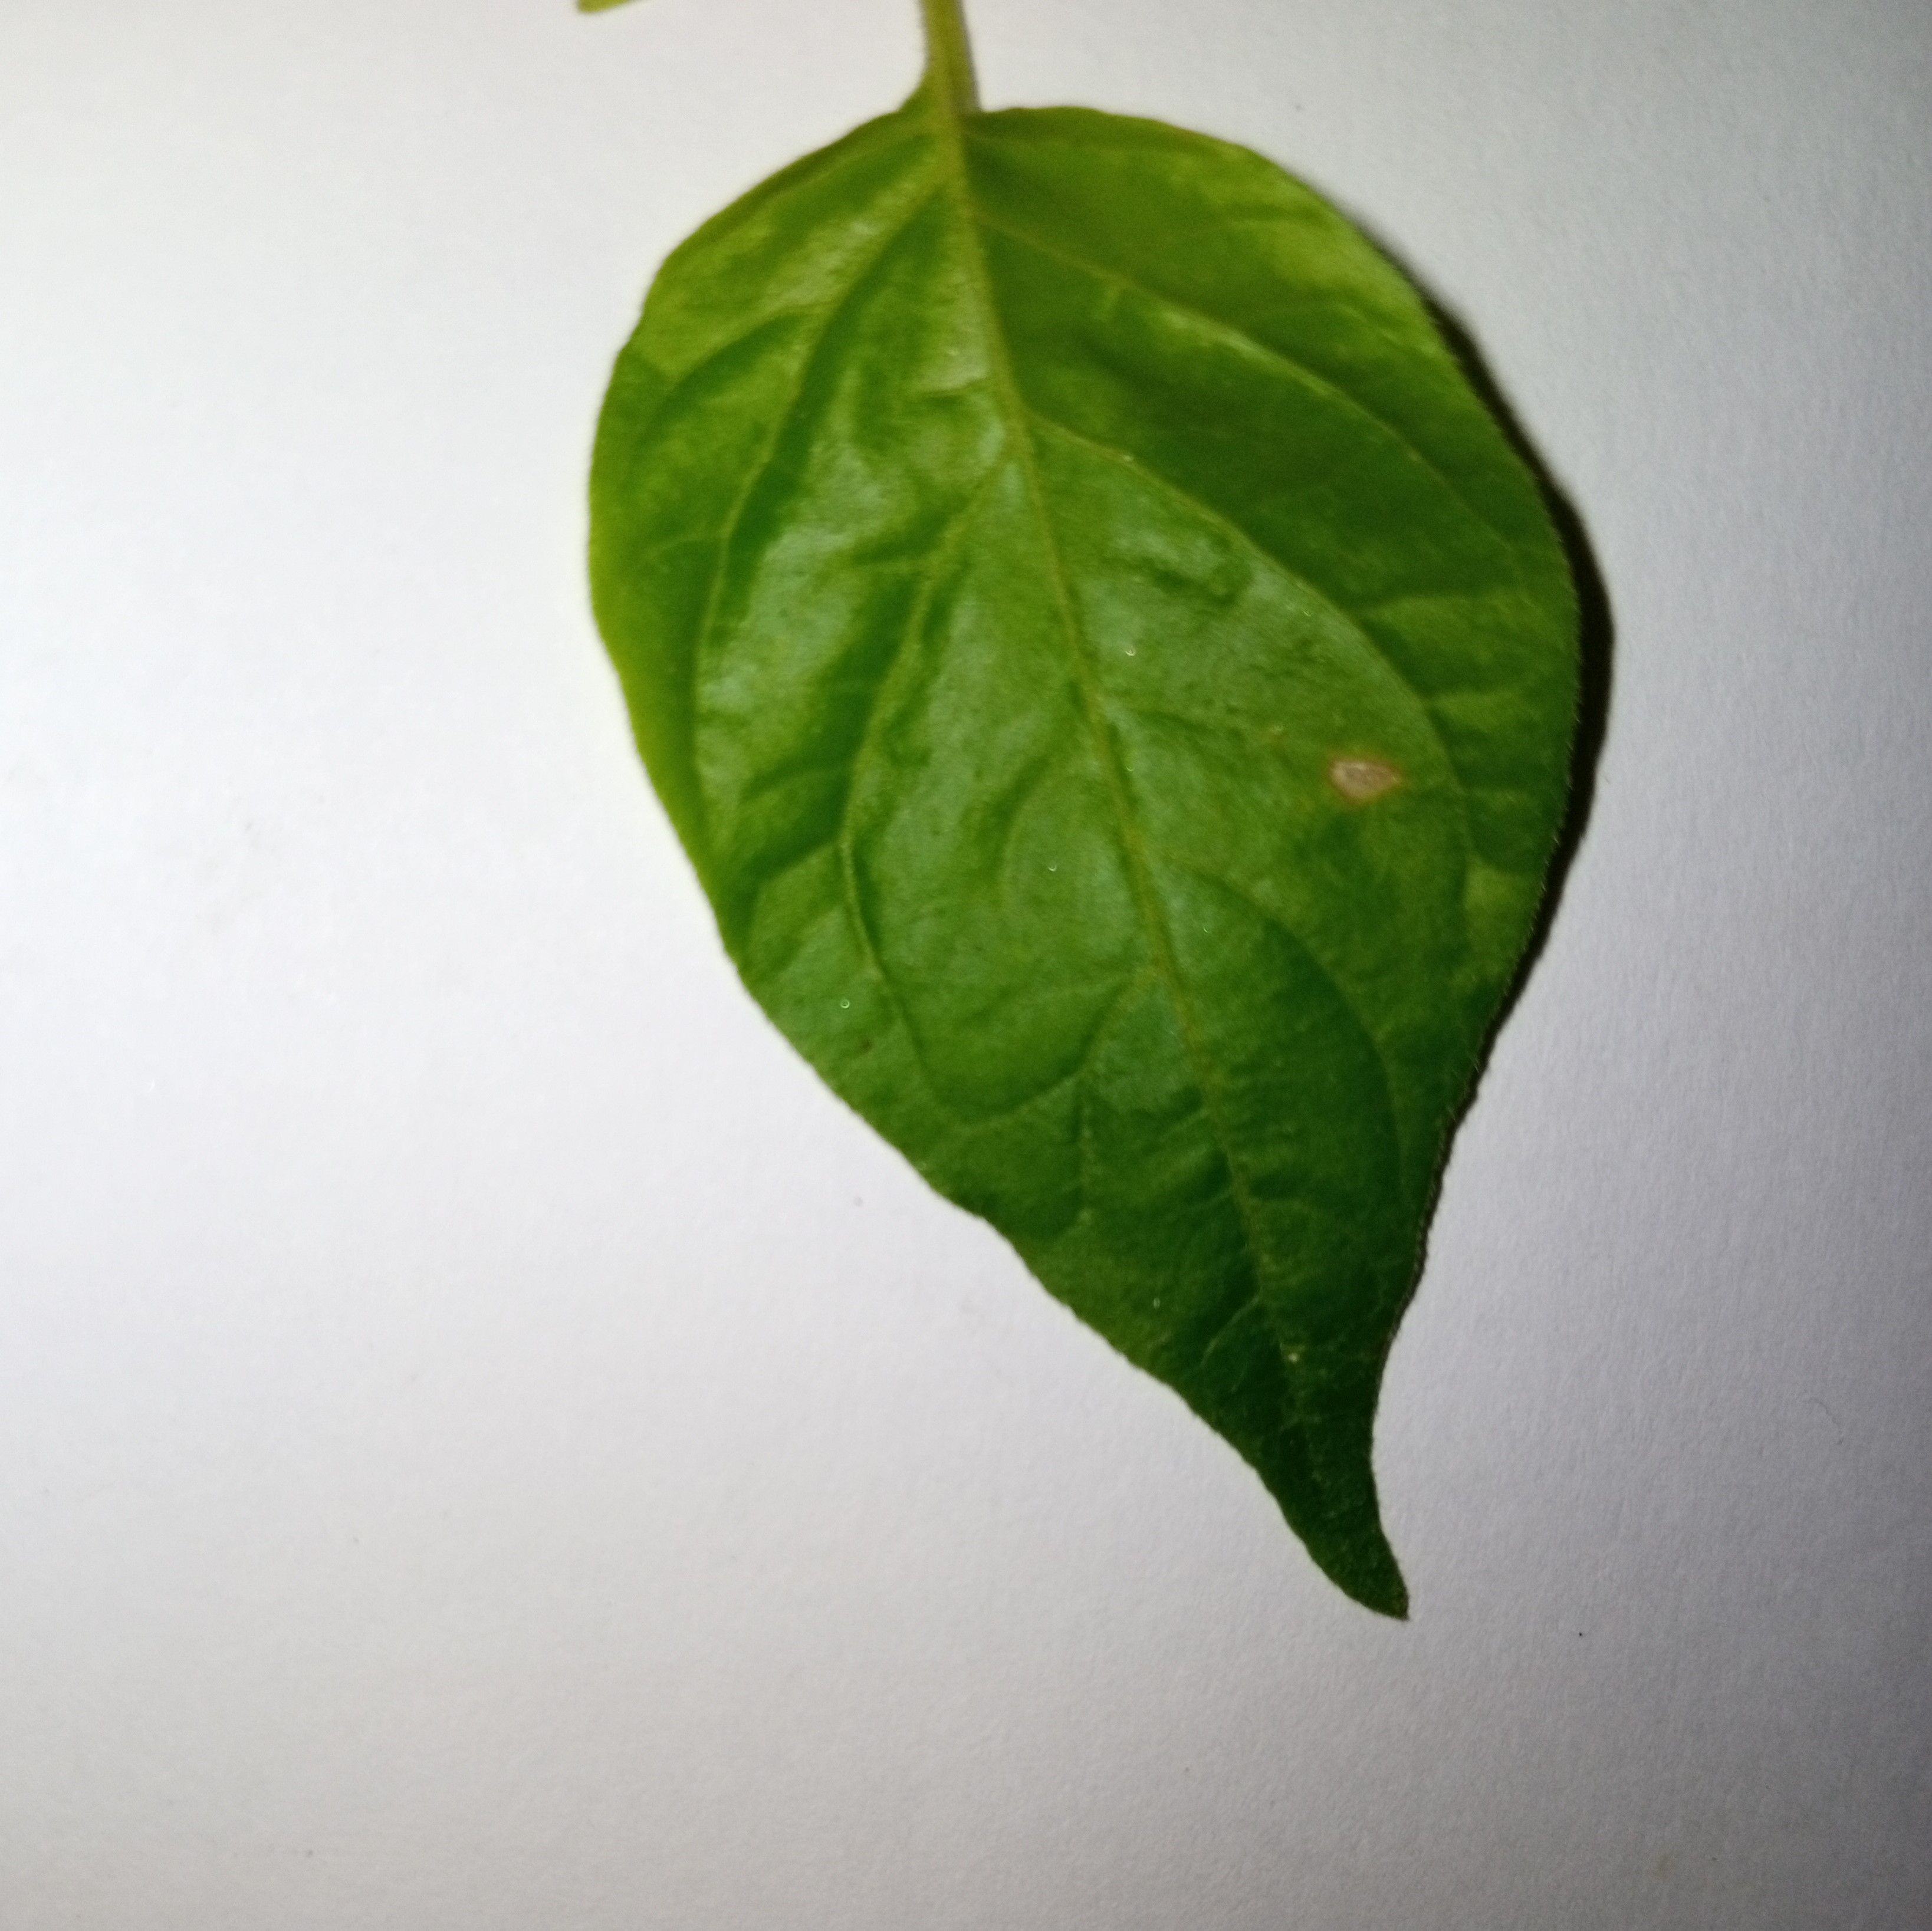Leaf: (395, 51, 1872, 1779)
